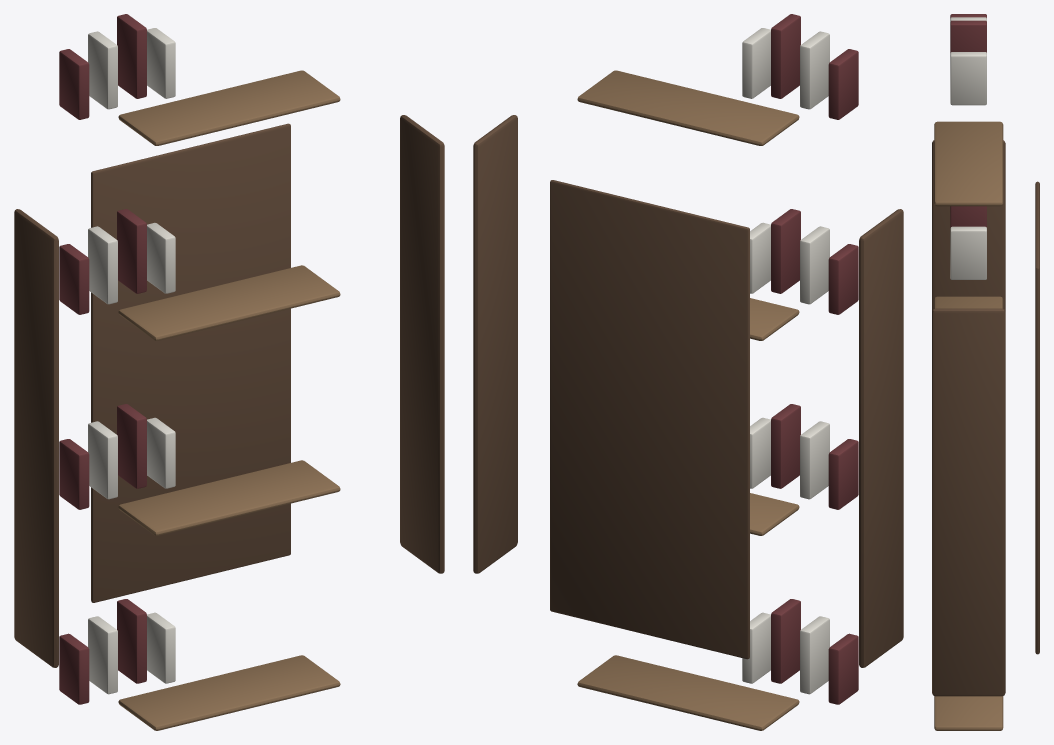
Rendered from bookshelf.glb.
The picture shows the model from 3 angles, left to right: view 1: azimuth 30°, elevation 25°; view 2: azimuth 150°, elevation 25°; view 3: azimuth 270°, elevation 25°; orthographic projection. The views are drawn at different scales.
Parts seen in each view (by area): view 1: back, side_l, side_r, shelf1, shelf0, shelf2, shelf3, book0_2, book1_2, book2_2, book3_2, book0_1 (+11 smaller); view 2: back, side_l, side_r, shelf0, shelf3, book0_2, book1_2, book2_2, book3_2, book0_1, book1_1, book2_1 (+11 smaller); view 3: side_r, shelf3, side_l, shelf0, back, book3_3, book2_3, book3_2, shelf2, book2_2.
Boxes of the visible parts, box(x1,y1,x2,y2) form: back: box(91, 123, 290, 602); side_l: box(14, 209, 58, 667); side_r: box(400, 115, 444, 573); shelf1: box(118, 460, 340, 535); shelf0: box(118, 655, 340, 730); shelf2: box(118, 265, 340, 340); shelf3: box(118, 70, 340, 145); book0_2: box(117, 599, 146, 683); book1_2: box(117, 404, 146, 488); book2_2: box(117, 209, 146, 293); book3_2: box(117, 14, 146, 98); book0_1: box(88, 616, 117, 694); back: box(550, 180, 749, 659); side_l: box(859, 209, 903, 667); side_r: box(473, 115, 517, 573); shelf0: box(577, 655, 799, 730); shelf3: box(577, 70, 799, 145); book0_2: box(771, 599, 800, 683); book1_2: box(771, 404, 800, 488); book2_2: box(771, 209, 800, 293); book3_2: box(771, 14, 800, 98); book0_1: box(800, 616, 829, 694); book1_1: box(800, 421, 829, 499); book2_1: box(800, 226, 829, 304); side_r: box(932, 308, 1005, 696); shelf3: box(934, 121, 1003, 206); side_l: box(932, 140, 1005, 311); shelf0: box(934, 696, 1003, 730); back: box(1035, 181, 1039, 654); book3_3: box(950, 52, 986, 105); book2_3: box(950, 226, 986, 279); book3_2: box(950, 20, 986, 52); shelf2: box(934, 296, 1003, 308); book2_2: box(950, 206, 986, 227).
Bounding box in the file's own units: 0.885 × 1.5 × 0.235.
